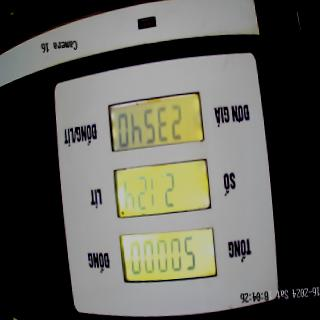screen: (105, 86, 218, 291)
